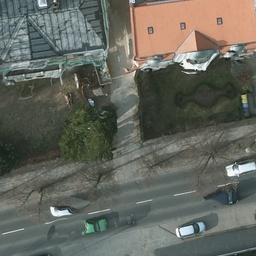car: (177, 221, 206, 237), (80, 217, 109, 233), (227, 161, 256, 177)
